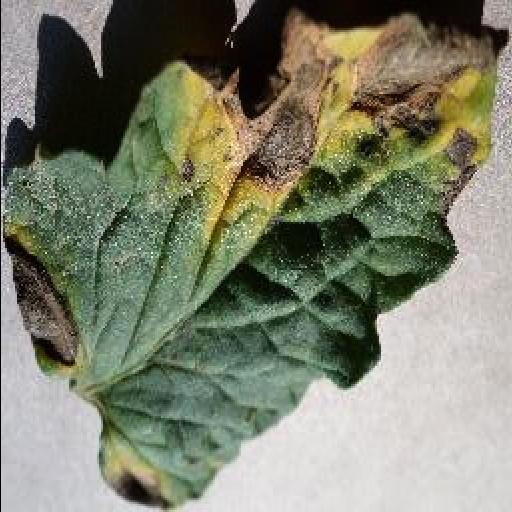disease_tomato: (0, 19, 504, 507)
